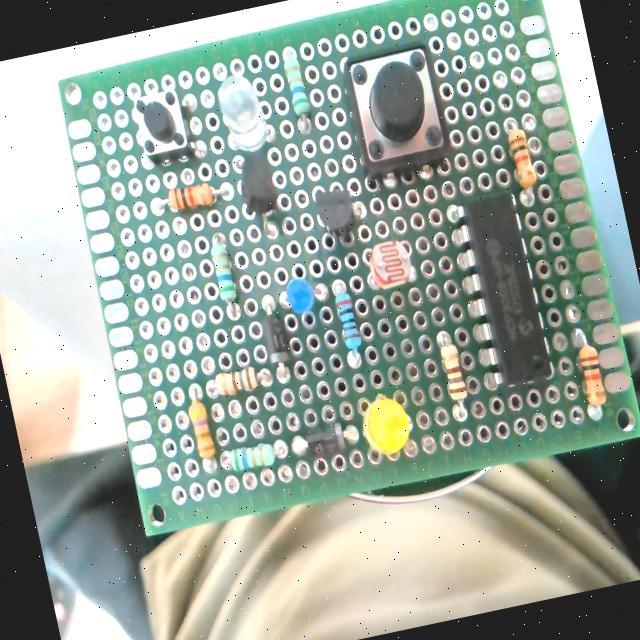IC: (440, 178, 565, 406)
cds: (359, 226, 428, 311)
diode: (283, 408, 368, 470), (254, 296, 297, 378)
led: (203, 61, 283, 160), (348, 380, 426, 464), (266, 257, 326, 317)
resistor: (560, 316, 620, 418), (491, 113, 548, 196), (200, 352, 278, 408), (178, 384, 222, 472), (274, 47, 319, 125), (435, 330, 472, 419), (206, 231, 243, 320), (332, 288, 365, 362), (165, 180, 217, 212), (227, 440, 276, 472)
switch: (340, 44, 449, 174), (130, 86, 192, 166)
transistor: (228, 143, 294, 234), (304, 174, 374, 258)
